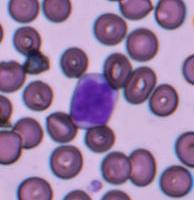M: (69, 72, 118, 128)
